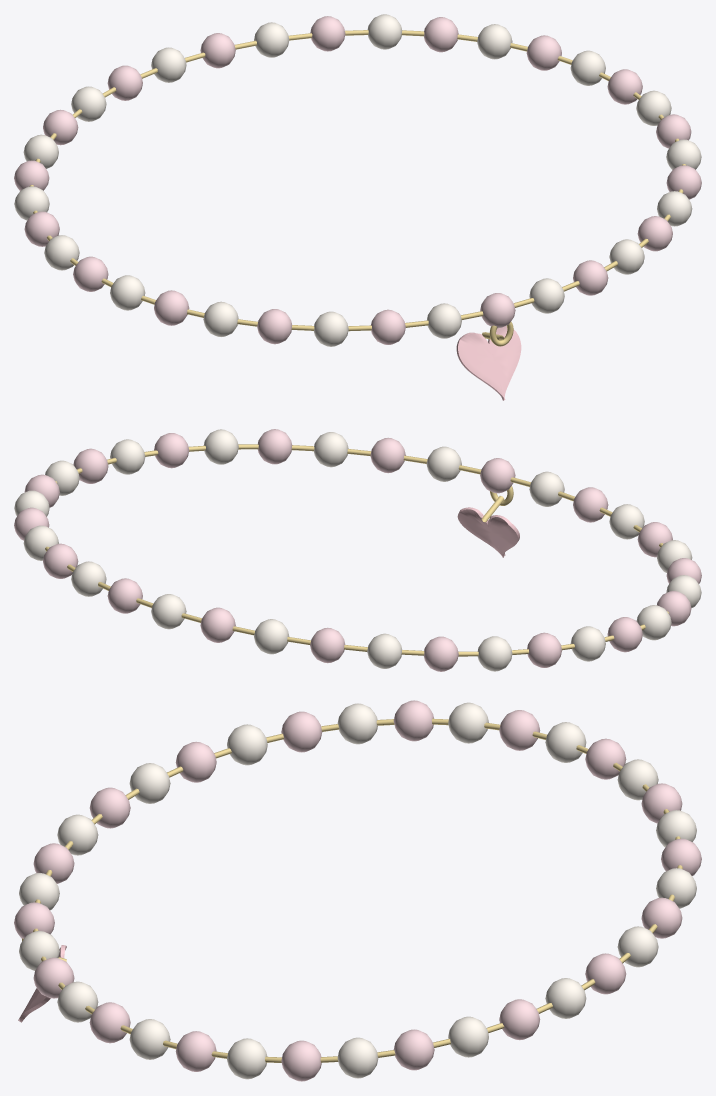
File: restart_necklace_heart_pig.glb
The picture shows the model from 3 angles, top to bottom: view 1: azimuth 30°, elevation 25°; view 2: azimuth 150°, elevation 25°; view 3: azimuth 270°, elevation 25°; orthographic projection. The views are drawn at different scales.
Visible parts, largest first — view 1: Hilo continuo del collar.002, Corazón bordado.002, Perla engarzada.105, Perla engarzada.088, Perla engarzada.102, Perla engarzada.085, Perla engarzada.107, Perla engarzada.104, Perla engarzada.103, Perla engarzada.086, Perla engarzada.087, Perla engarzada.089 (+26 smaller); view 2: Hilo continuo del collar.002, Corazón bordado.002, Perla engarzada.094, Perla engarzada.095, Perla engarzada.093, Perla engarzada.076, Perla engarzada.092, Perla engarzada.075, Perla engarzada.077, Perla engarzada.090, Perla engarzada.091, Perla engarzada.096 (+26 smaller); view 3: Hilo continuo del collar.002, Perla engarzada.081, Perla engarzada.082, Perla engarzada.080, Perla engarzada.100, Perla engarzada.083, Perla engarzada.098, Perla engarzada.101, Perla engarzada.079, Perla engarzada.099, Perla engarzada.084, Perla engarzada.097 (+25 smaller).
Boxes of the visible parts, box(x1,y1,x2,y2) form: Hilo continuo del collar.002: box(29, 30, 686, 331); Corazón bordado.002: box(456, 326, 521, 400); Perla engarzada.105: box(314, 311, 348, 346); Perla engarzada.088: box(310, 16, 345, 51); Perla engarzada.102: box(154, 290, 189, 325); Perla engarzada.085: box(477, 24, 512, 59); Perla engarzada.107: box(426, 303, 461, 338); Perla engarzada.104: box(257, 309, 292, 344); Perla engarzada.103: box(203, 301, 238, 336); Perla engarzada.086: box(424, 17, 458, 52); Perla engarzada.087: box(367, 14, 402, 49); Perla engarzada.089: box(254, 22, 289, 57); Hilo continuo del collar.002: box(45, 444, 669, 656); Corazón bordado.002: box(457, 507, 519, 557); Perla engarzada.094: box(424, 636, 458, 671); Perla engarzada.095: box(477, 636, 512, 671); Perla engarzada.093: box(367, 633, 402, 668); Perla engarzada.076: box(257, 429, 292, 464); Perla engarzada.092: box(310, 627, 345, 663); Perla engarzada.075: box(314, 432, 348, 467); Perla engarzada.077: box(204, 429, 238, 464); Perla engarzada.090: box(200, 607, 235, 642); Perla engarzada.091: box(254, 619, 289, 654); Perla engarzada.096: box(527, 632, 561, 667); Hilo continuo del collar.002: box(33, 718, 682, 1062); Perla engarzada.081: box(337, 1037, 378, 1078); Perla engarzada.082: box(393, 1029, 434, 1070); Perla engarzada.080: box(281, 1040, 321, 1081); Perla engarzada.100: box(281, 711, 322, 752); Perla engarzada.083: box(448, 1016, 488, 1057); Perla engarzada.098: box(393, 700, 433, 741); Perla engarzada.101: box(227, 724, 267, 765); Perla engarzada.079: box(227, 1038, 267, 1079); Perla engarzada.099: box(337, 703, 377, 744); Perla engarzada.084: box(499, 999, 540, 1040); Perla engarzada.097: box(448, 702, 488, 743).
Bounding box in the file's own units: 0.5674 × 0.137 × 0.4694.
